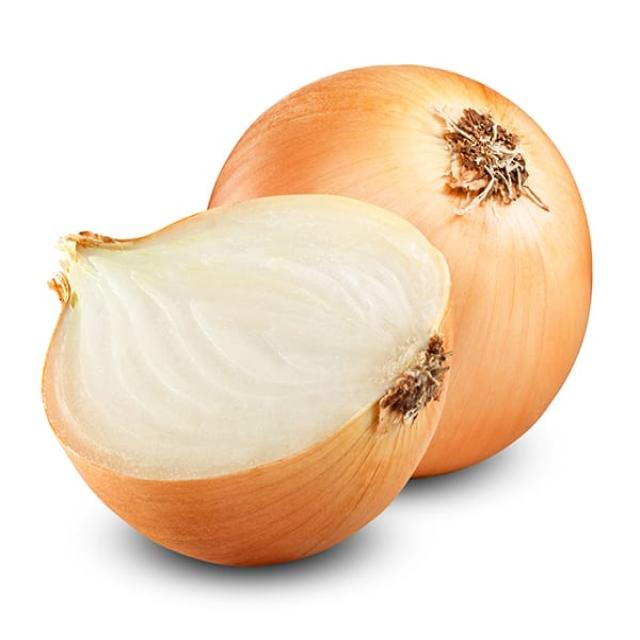onion: (209, 58, 593, 479), (41, 196, 451, 577)
